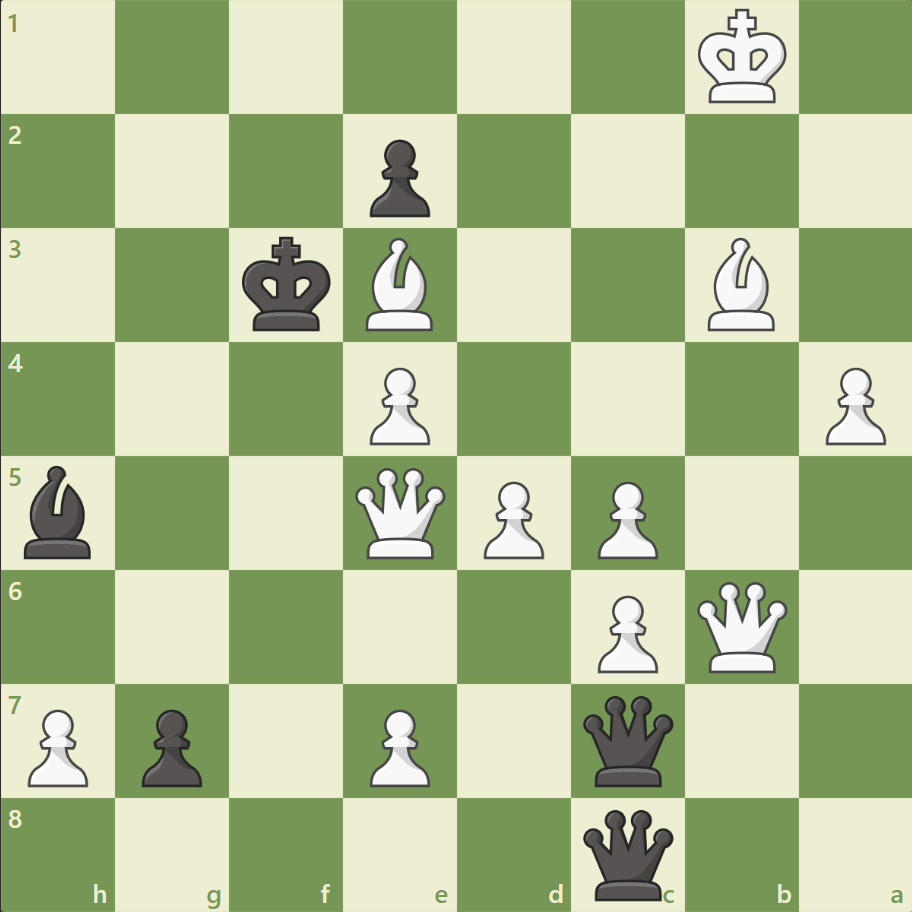B: (698, 233, 782, 336), (358, 233, 442, 336)
K: (692, 4, 792, 112)
P: (20, 700, 95, 791), (474, 473, 549, 564), (361, 700, 435, 791), (588, 586, 662, 677), (588, 473, 662, 564), (815, 359, 889, 450), (361, 359, 435, 450)
Q: (691, 576, 790, 676), (351, 463, 450, 562)
b: (17, 460, 101, 563)
k: (238, 231, 338, 339)
p: (133, 700, 208, 791), (361, 132, 435, 223)
q: (578, 804, 677, 903), (578, 690, 677, 789)
